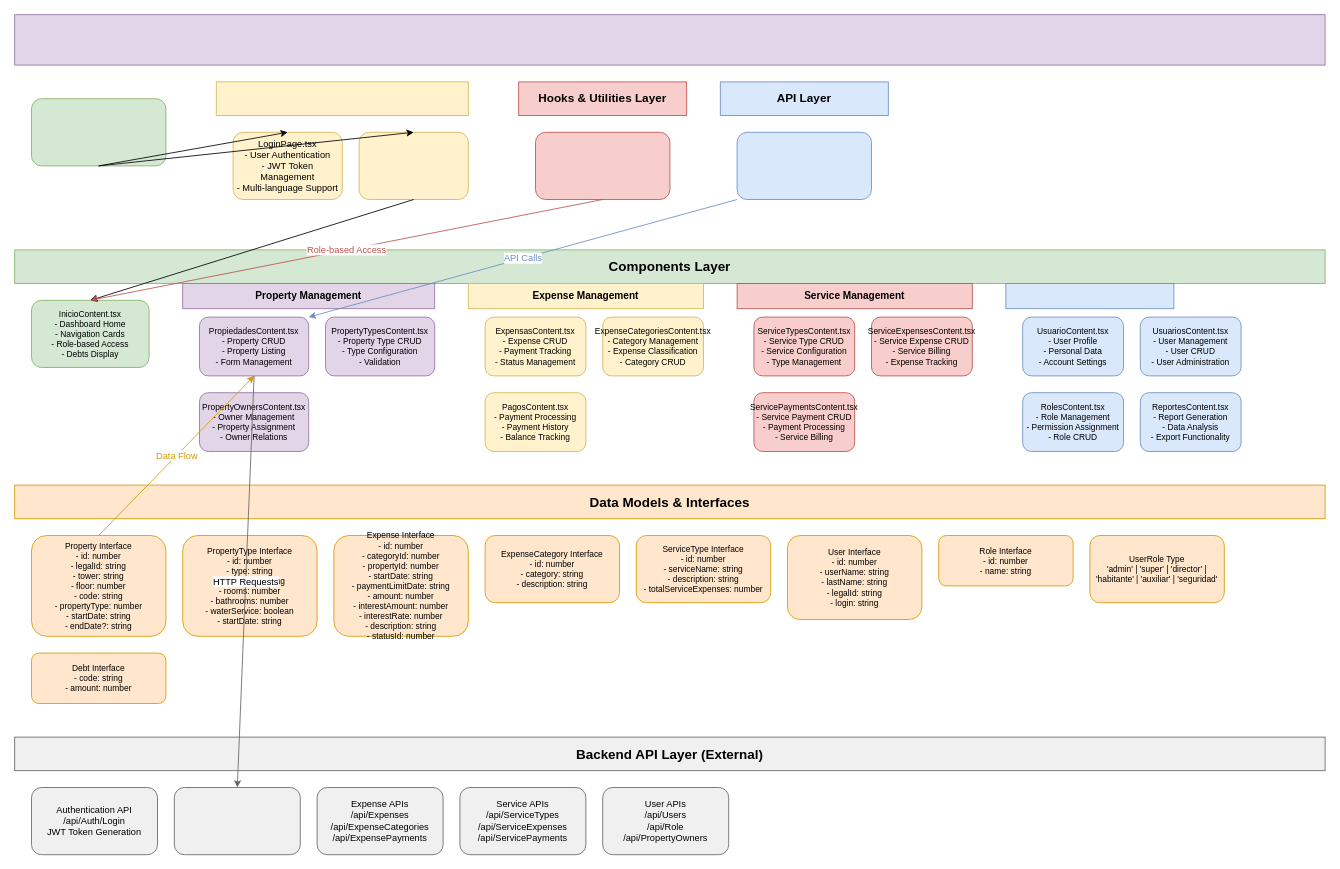
The diagram is 1340 pixels wide and 869 high, and some of its shapes have lost their labels. Each missing label, with the centre of its shape:
App.tsx (Main Application): point 98,132
Authentication Layer: point 341,98
endpoints.ts - API Base URL - Endpoint Definitions - Service URLs: point 804,165
Frontend Application Layer: point 669,39
LandingPage.tsx - Main Dashboard - Navigation Router - Sidebar Management: point 413,165
Property APIs /api/Property /api/PropertyType CRUD Operations: point 236,821
User Management: point 1089,296
useUserRole.ts - JWT Token Parsing - Role Management - Permission Checking: point 602,165
